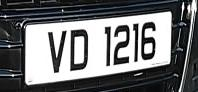1: (100, 24, 115, 72), (130, 20, 141, 67)
2: (113, 21, 131, 70)
6: (139, 18, 158, 66)
D: (68, 25, 91, 76)
V: (44, 30, 68, 73)
